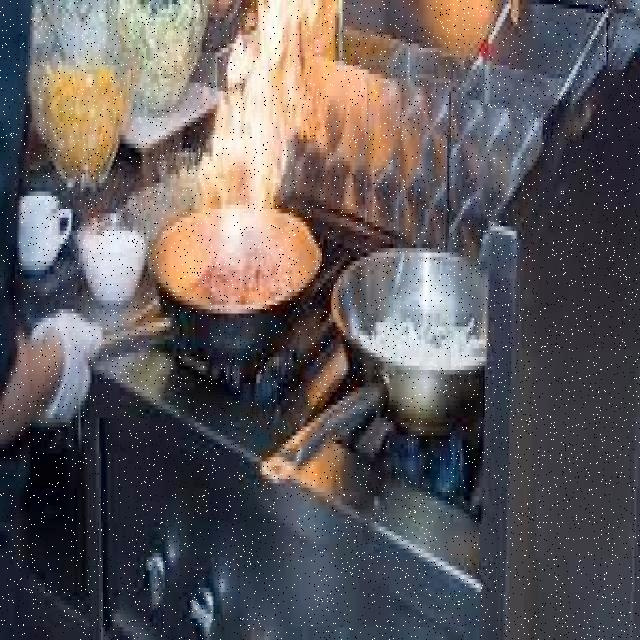fire: (225, 13, 339, 219)
